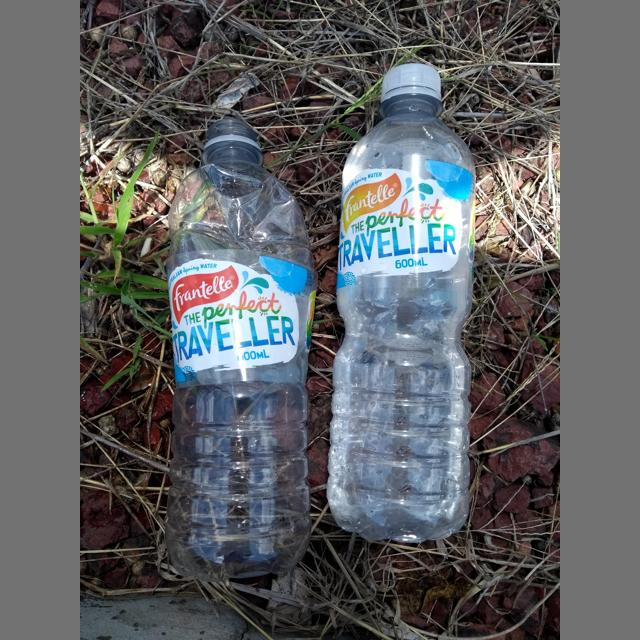litter: (326, 63, 476, 543), (165, 119, 318, 582), (381, 64, 441, 97)
